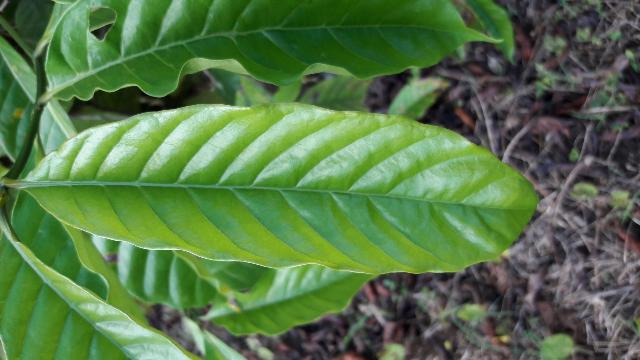healthy: (11, 103, 545, 277)
